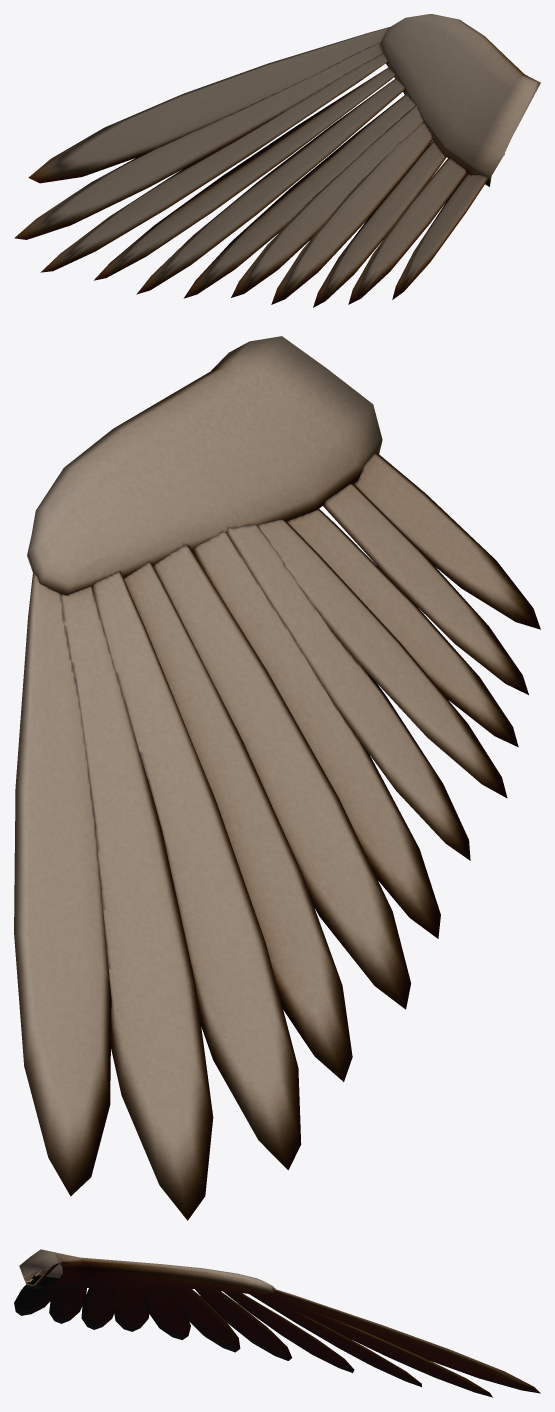
The model's file is leftWingFinal.obj.
3 views of the same model, one above another, from view 1: azimuth 30°, elevation 25°; view 2: azimuth 150°, elevation 25°; view 3: azimuth 270°, elevation 25° (orthographic). The views are drawn at different scales.
Parts seen in each view (by area): view 1: Cube.001_Cube.001; view 2: Cube.001_Cube.001; view 3: Cube.001_Cube.001.
Boxes of the visible parts, x1,y1,x2,y2 form: Cube.001_Cube.001: (14, 14, 540, 307); Cube.001_Cube.001: (14, 336, 540, 1220); Cube.001_Cube.001: (14, 1249, 540, 1397).
Bounding box in the file's own units: 3.73 × 3.83 × 7.75.
Materials: 1 (1 with a texture image).
